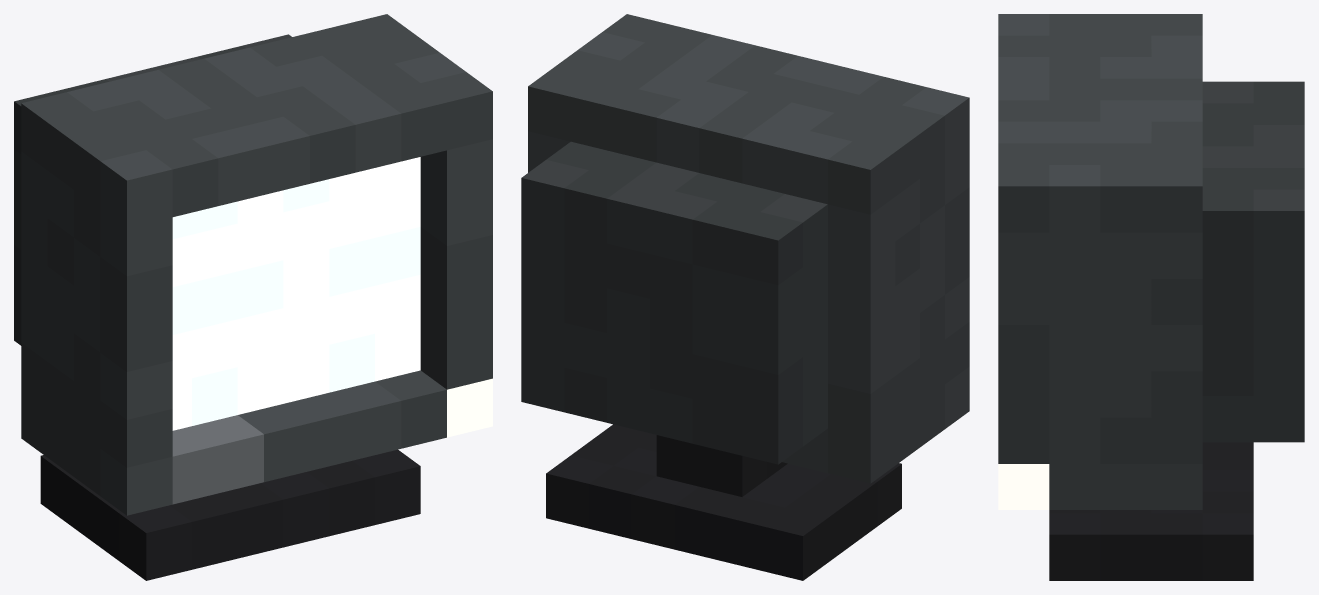
File: ecran.glb
3 renders of one model, left to right at view 1: azimuth 30°, elevation 25°; view 2: azimuth 150°, elevation 25°; view 3: azimuth 270°, elevation 25°, orthographic. The views are drawn at different scales.
Visible parts, largest first — view 1: voxel__ecran__ns; view 2: voxel__ecran__ns; view 3: voxel__ecran__ns.
Boxes of the visible parts, <box> form: voxel__ecran__ns: <box>14,14,492,580</box>; voxel__ecran__ns: <box>521,14,969,580</box>; voxel__ecran__ns: <box>998,14,1304,580</box>.
Size of the model in its own units: 0.4 by 0.45 by 0.3.
